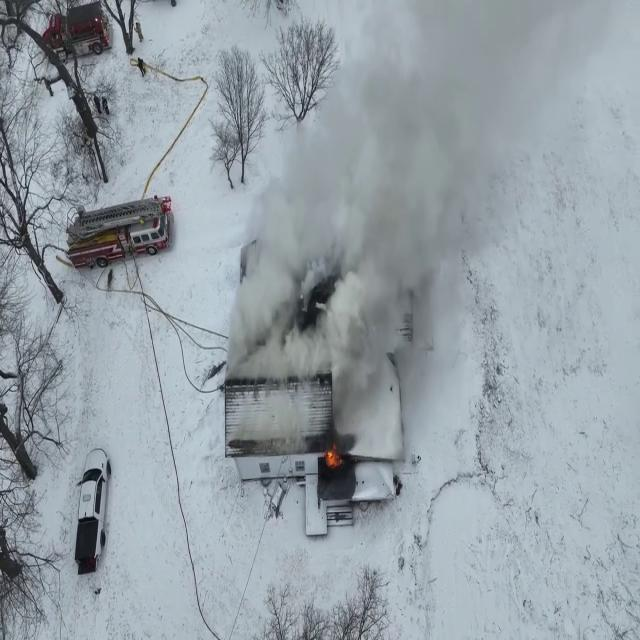Fire: (322, 438, 340, 471)
Smoke: (222, 1, 526, 464)
